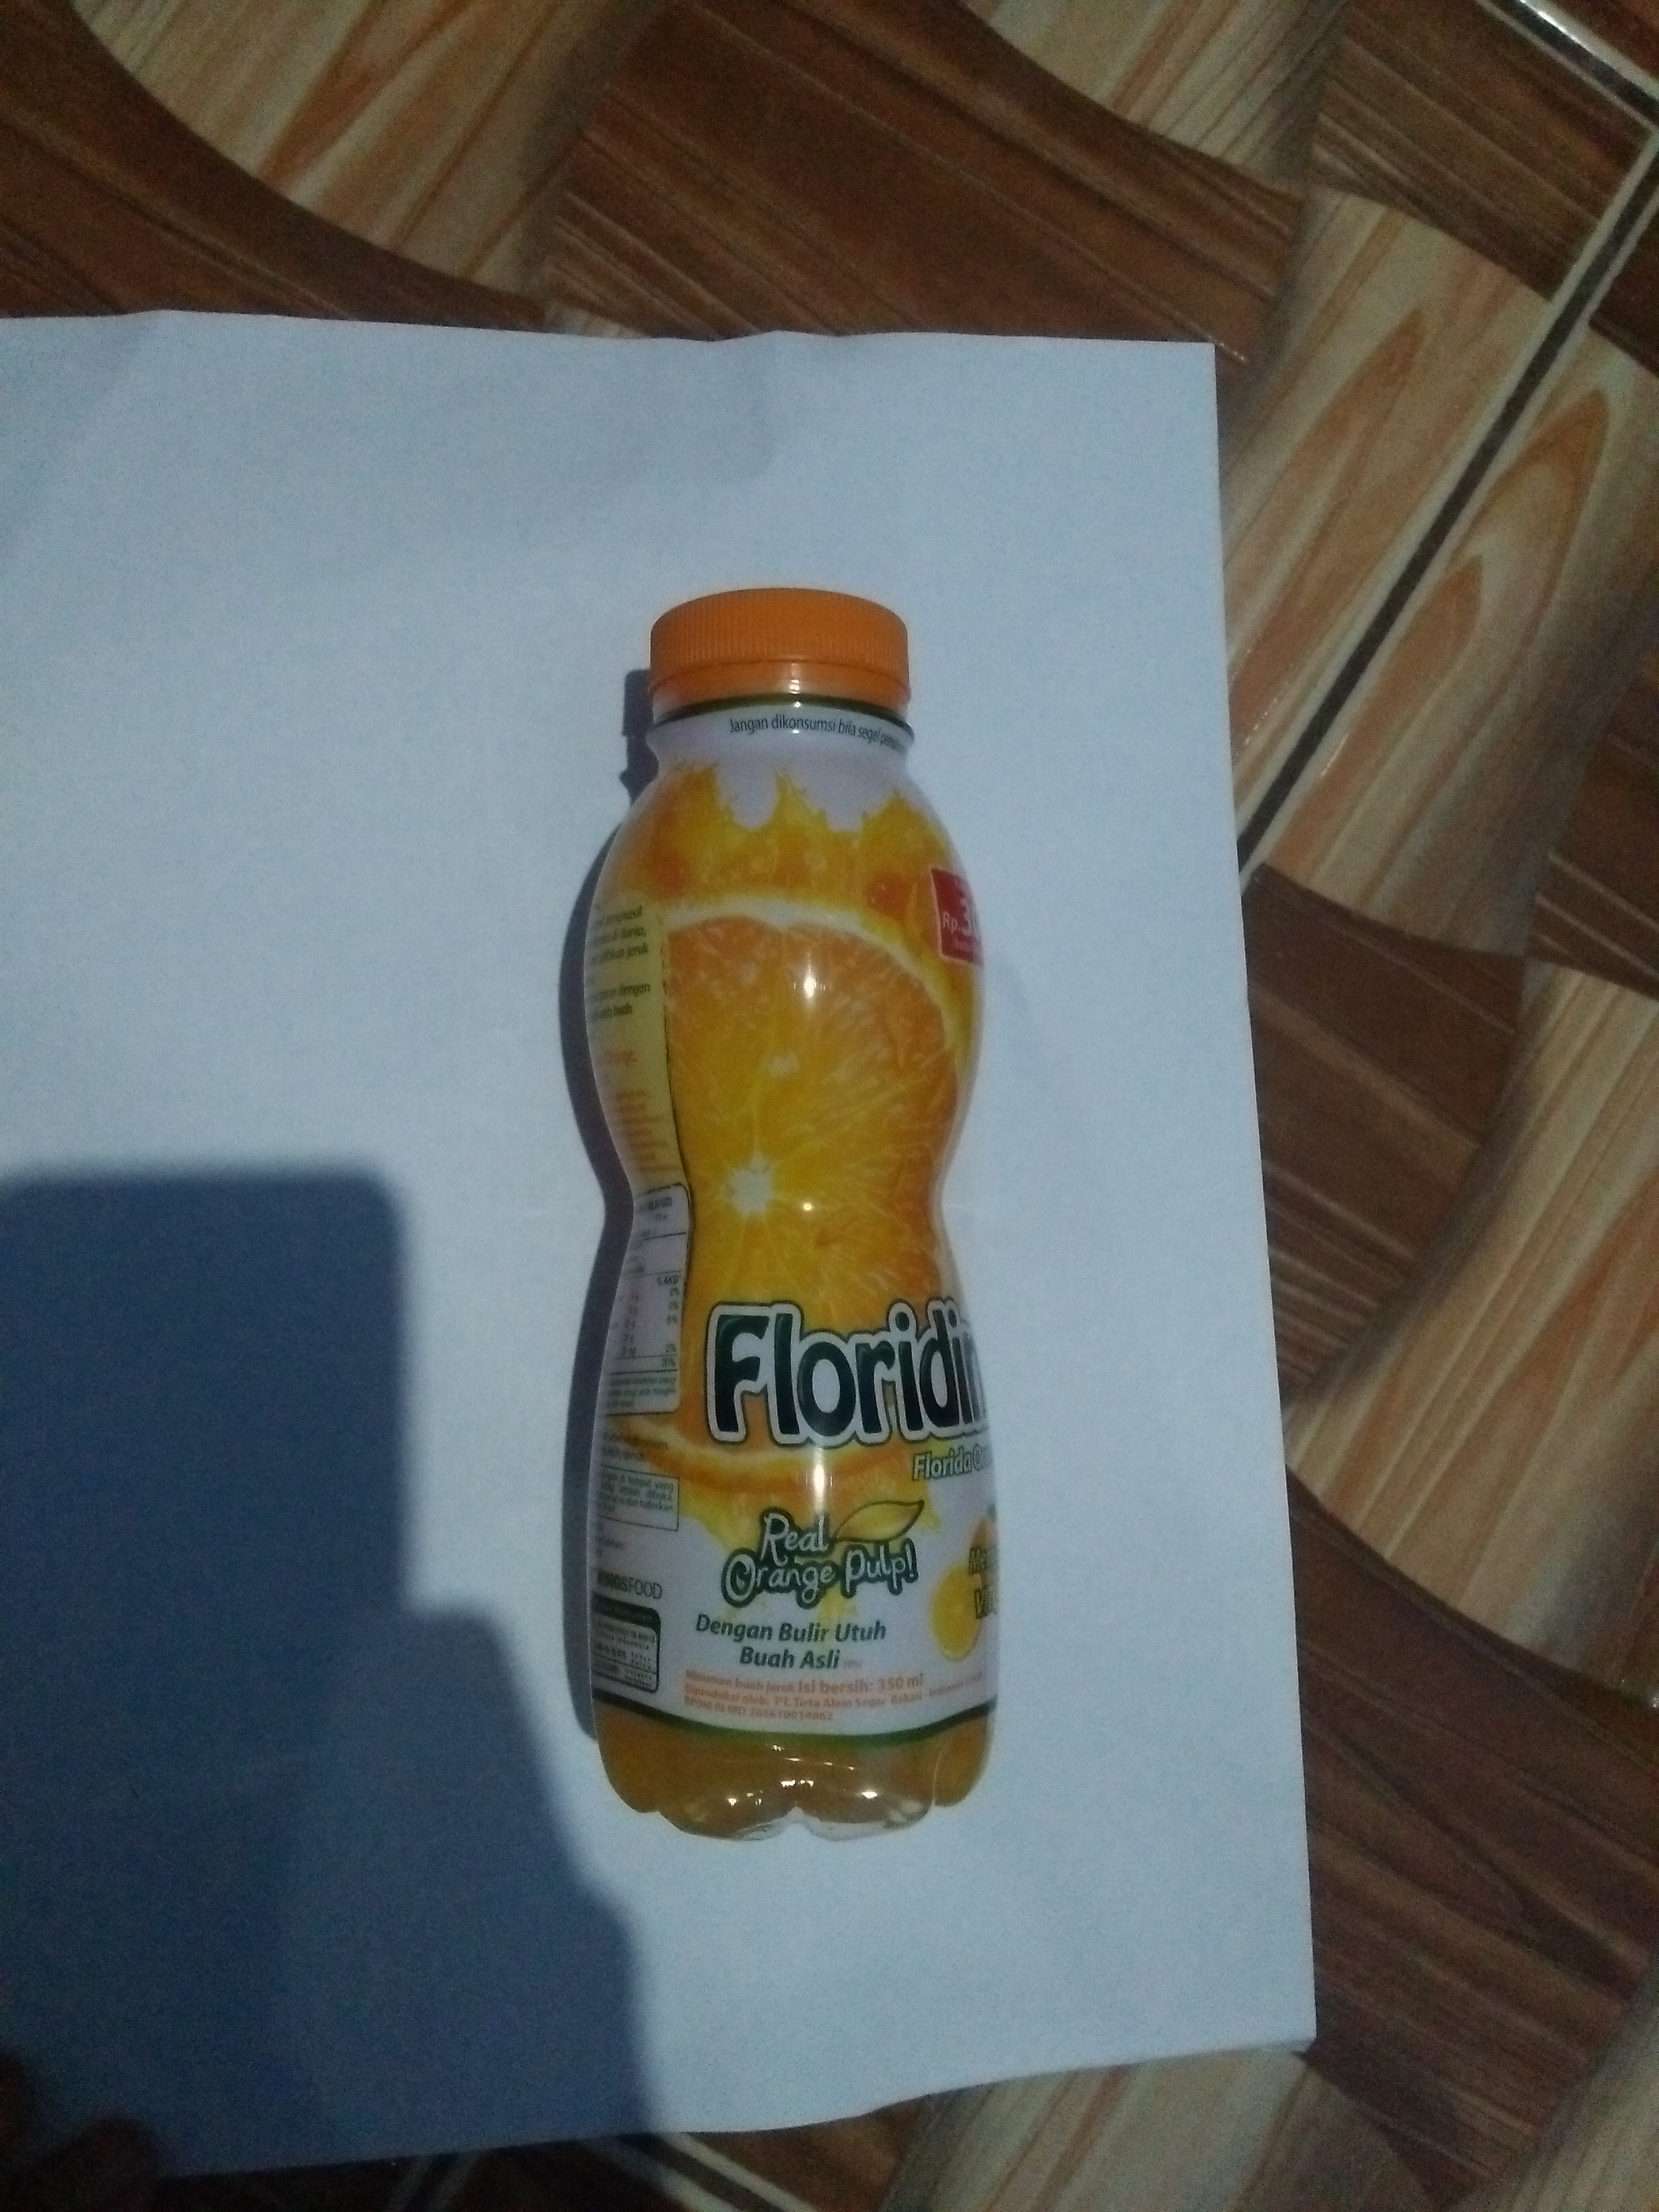Floridina: (544, 583, 1028, 1858)
